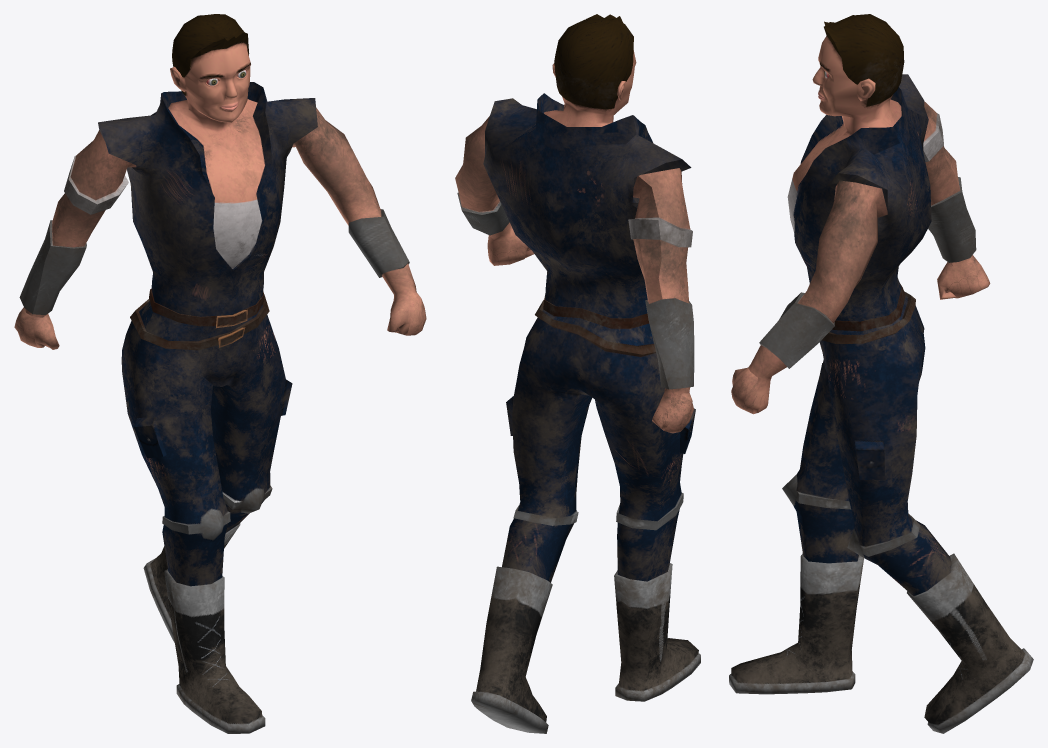
Rendered from Anim_andar_jugador.0027.obj.
The picture shows the model from 3 angles, left to right: view 1: azimuth 30°, elevation 25°; view 2: azimuth 150°, elevation 25°; view 3: azimuth 270°, elevation 25°; orthographic projection. The views are drawn at different scales.
Parts seen in each view (by area): view 1: Anim_andar_jugador; view 2: Anim_andar_jugador; view 3: Anim_andar_jugador.
Boxes of the visible parts, <box> form: Anim_andar_jugador: <box>14,14,426,733</box>; Anim_andar_jugador: <box>455,14,700,733</box>; Anim_andar_jugador: <box>729,14,1033,733</box>.
Size of the model in its own units: 4.54 by 9.79 by 3.88.
